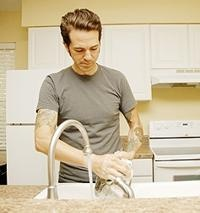person without safety: (43, 8, 131, 128)
